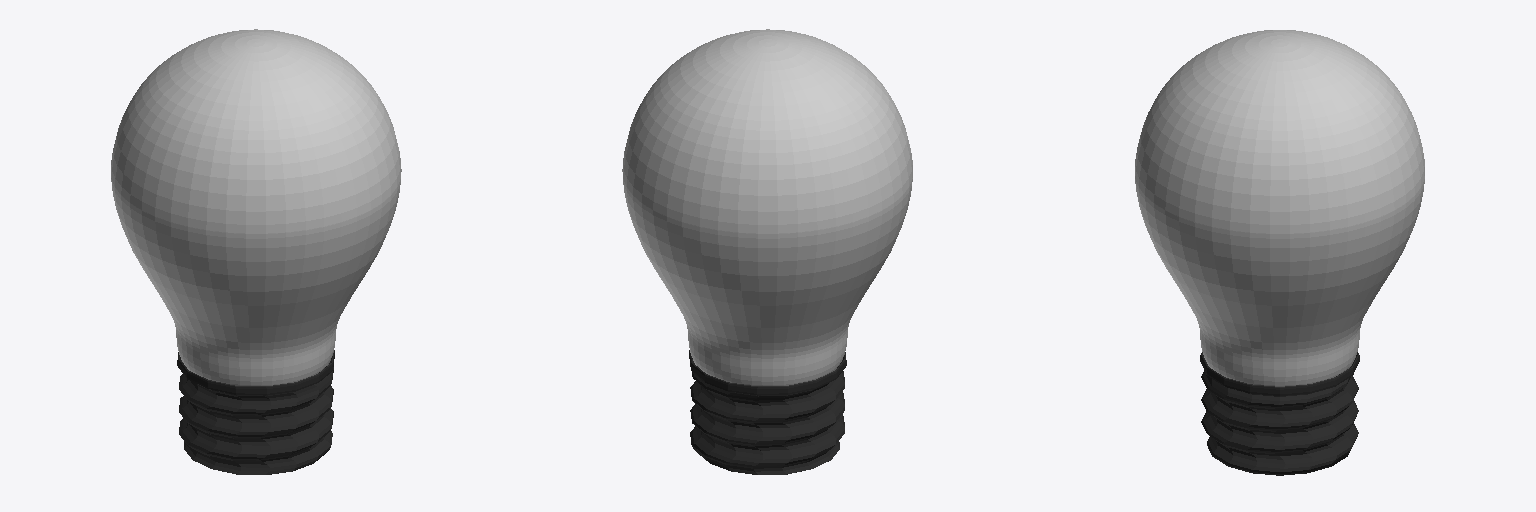
File: Lightbulb.obj
3 views of the same model, side by side, from view 1: azimuth 30°, elevation 25°; view 2: azimuth 150°, elevation 25°; view 3: azimuth 270°, elevation 25° (orthographic).
Visible parts, largest first — view 1: Light_Bulb.2; view 2: Light_Bulb.2; view 3: Light_Bulb.2.
Boxes of the visible parts, box(x1,y1,x2,y2) form: Light_Bulb.2: box(111, 29, 401, 474); Light_Bulb.2: box(622, 29, 912, 474); Light_Bulb.2: box(1135, 30, 1424, 475).
Bounding box in the file's own units: 129 × 209 × 129.